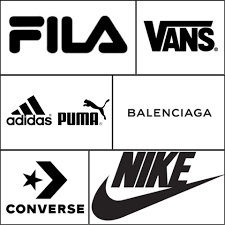adidas: (6, 94, 52, 125)
nike: (91, 174, 221, 222)
vans: (143, 19, 216, 51)
